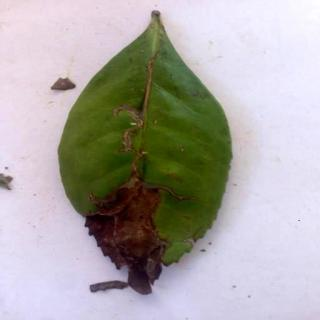Brown Blight: (60, 11, 234, 295)
